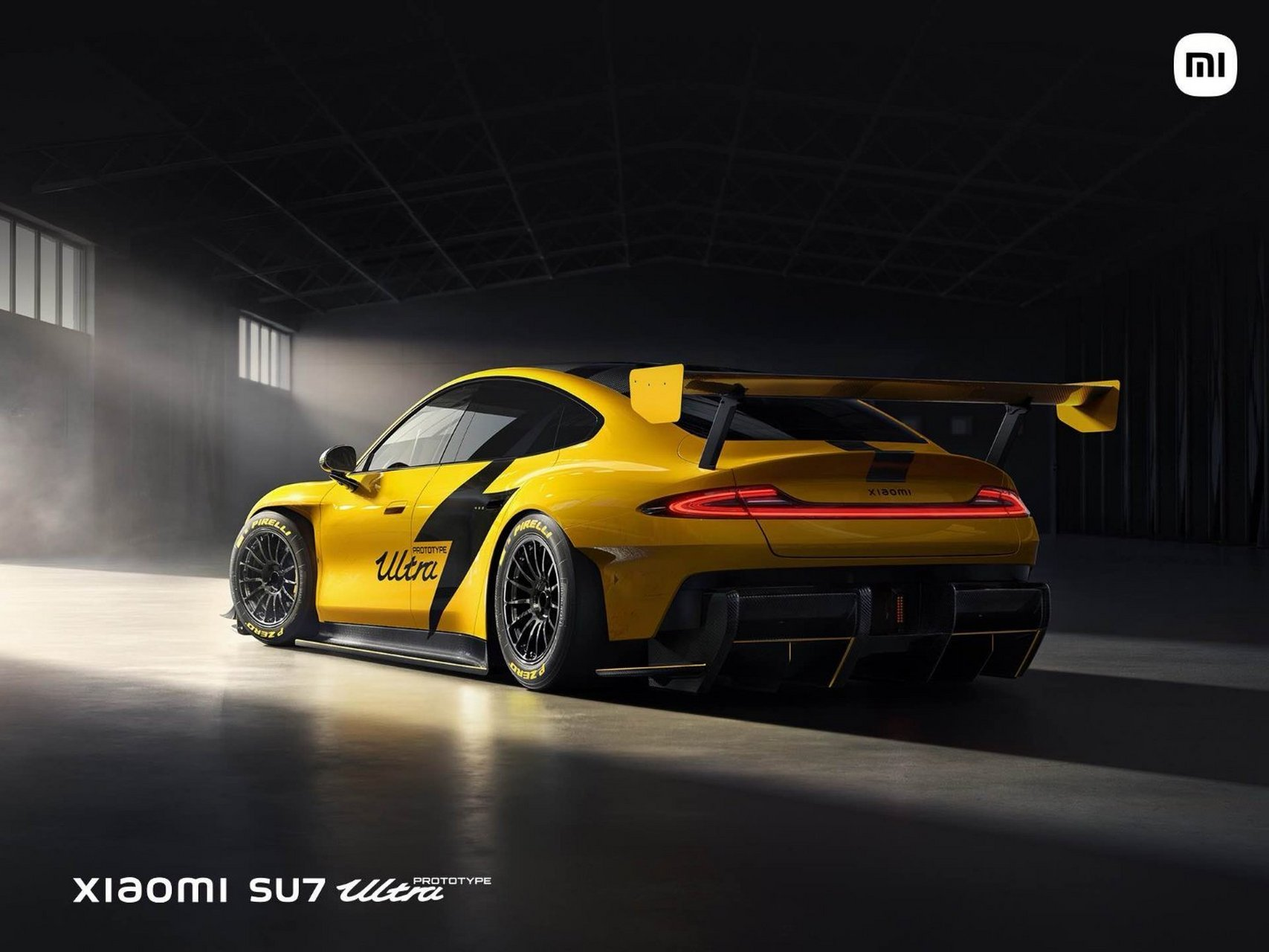su7: (223, 364, 1070, 715)
